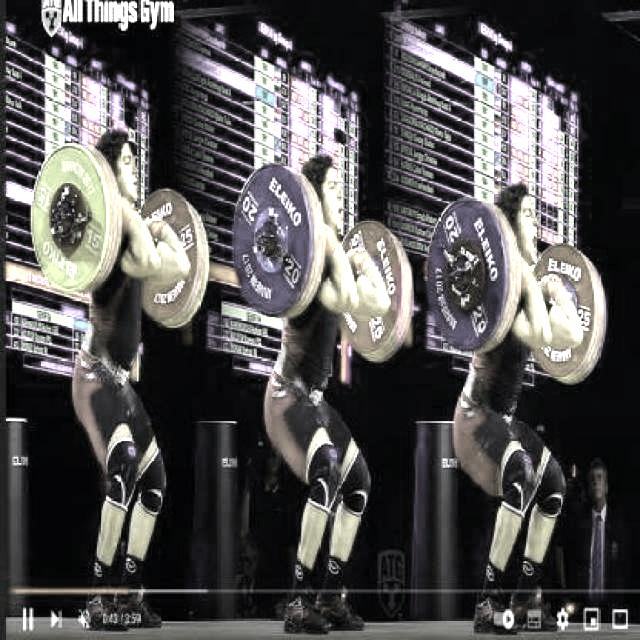barbell: (412, 182, 515, 360), (30, 140, 113, 297), (232, 160, 312, 320)
